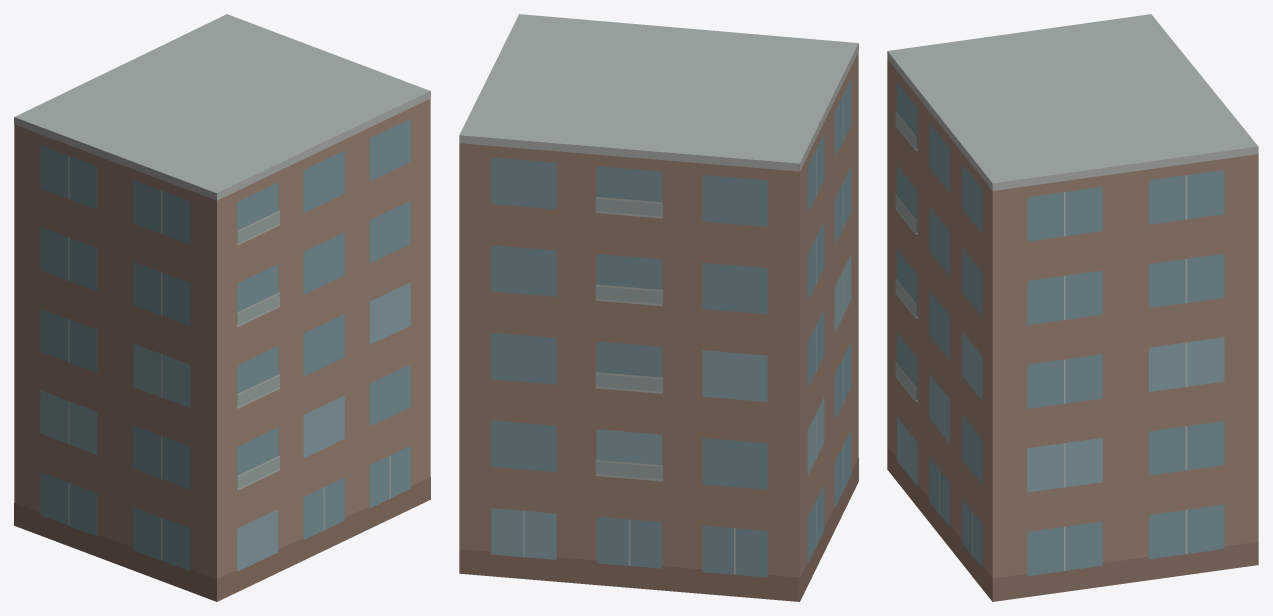
File: survey-upis-32570836.glb
3 renders of one model, left to right at view 1: azimuth 30°, elevation 25°; view 2: azimuth 150°, elevation 25°; view 3: azimuth 270°, elevation 25°, orthographic. The views are drawn at different scales.
Visible parts, largest first — view 1: survey-upis-32570836.tmp; view 2: survey-upis-32570836.tmp; view 3: survey-upis-32570836.tmp.
Part boxes in pixels (left/top/right/bottom): survey-upis-32570836.tmp: left=14, top=14, right=430, bottom=601; survey-upis-32570836.tmp: left=459, top=14, right=858, bottom=601; survey-upis-32570836.tmp: left=887, top=14, right=1258, bottom=601.
Bounding box in the file's own units: 11.78 × 13.55 × 10.91.
